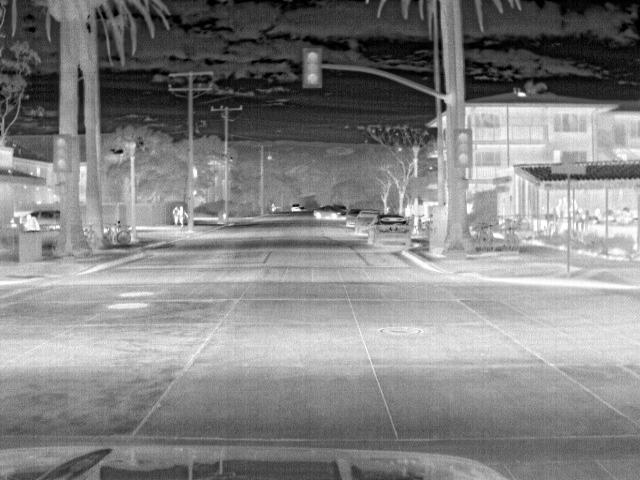car: (365, 212, 416, 251), (351, 213, 383, 238), (29, 209, 62, 230), (310, 204, 348, 222)
person: (176, 205, 190, 227), (21, 213, 35, 230)
